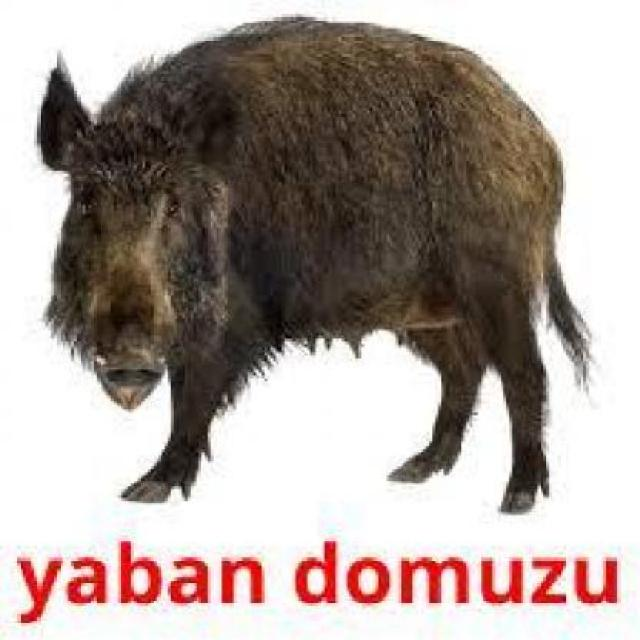wildboar: (27, 1, 611, 528)
